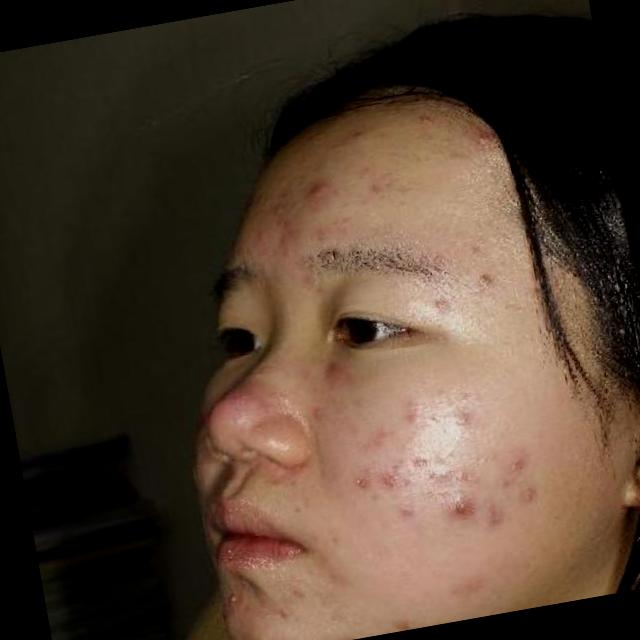darkspot: (439, 404, 481, 440), (468, 268, 501, 298), (428, 290, 458, 318)
nodules: (296, 174, 340, 208), (443, 488, 479, 524), (467, 124, 499, 160), (221, 586, 246, 612), (248, 629, 280, 640)
